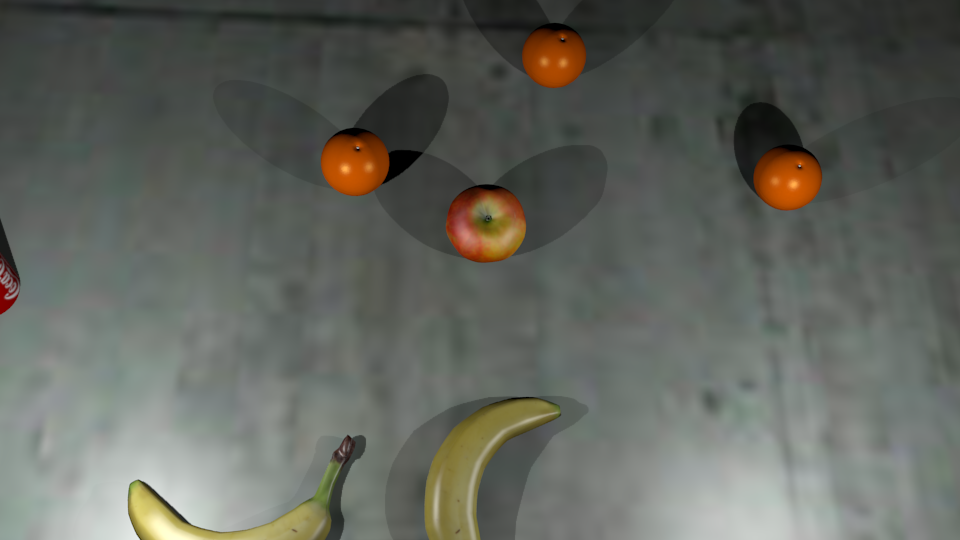apple: (446, 191, 526, 263), (791, 26, 869, 98), (192, 164, 267, 216), (867, 105, 932, 149)
banana: (361, 144, 509, 309), (129, 436, 356, 540), (425, 400, 562, 540), (282, 164, 449, 220)
cola_can: (1, 257, 20, 315), (477, 1, 523, 12)
orange: (321, 138, 389, 196), (754, 154, 822, 211), (523, 34, 586, 88), (56, 145, 116, 200), (376, 68, 422, 114)
